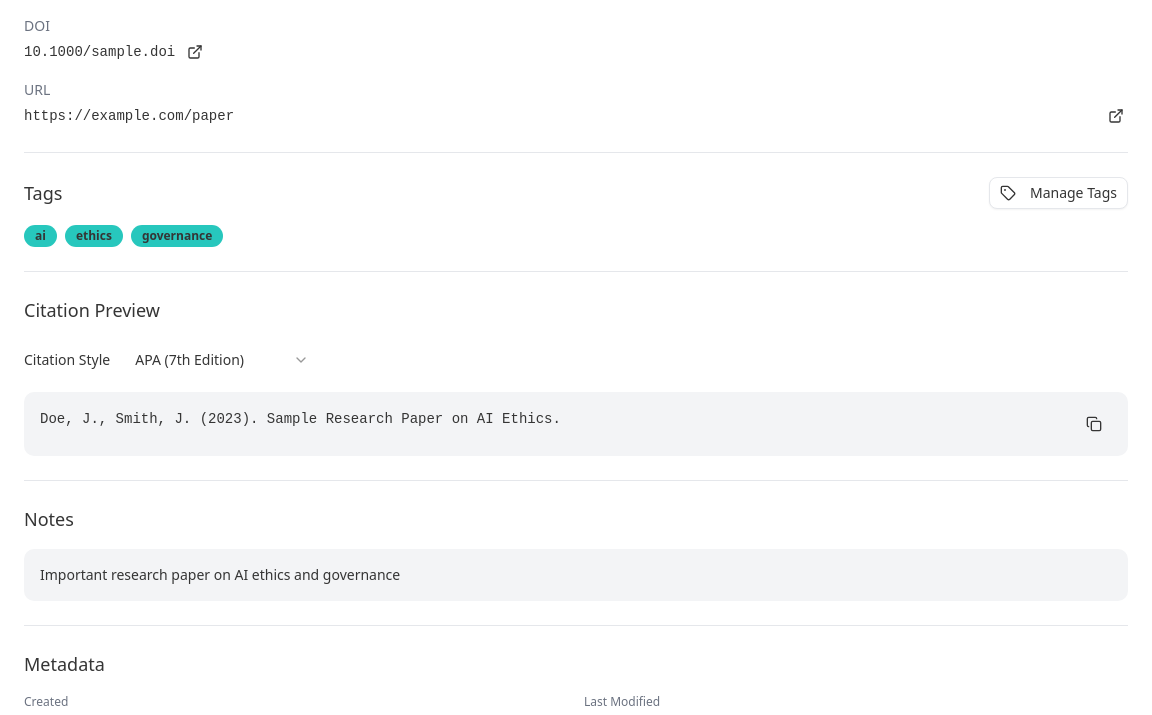
Test case: ReferenceDetail › Citation Generation › should change citation style when selected
(page scrolled)
// Click on citation style dropdown
Click the dropdown.
click(222, 360)  # box [122,340,322,380]
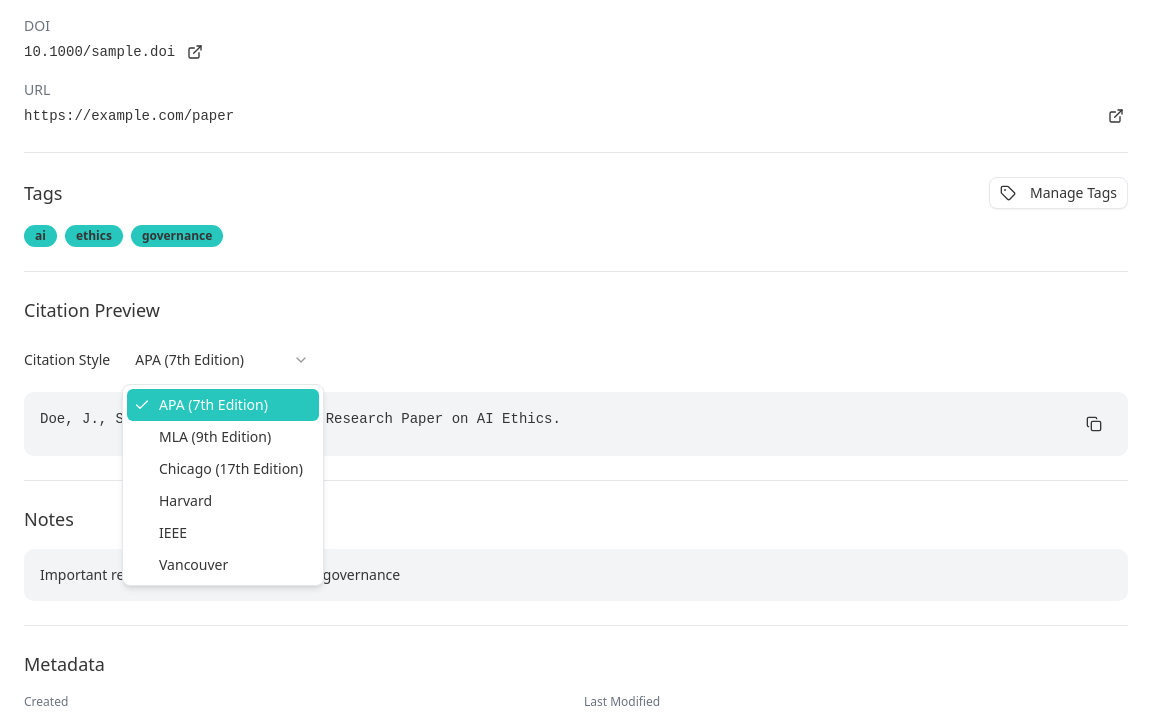
// Select MLA style
Click the option "MLA (9th Edition)".
click(215, 436)  # box [159,427,271,446]
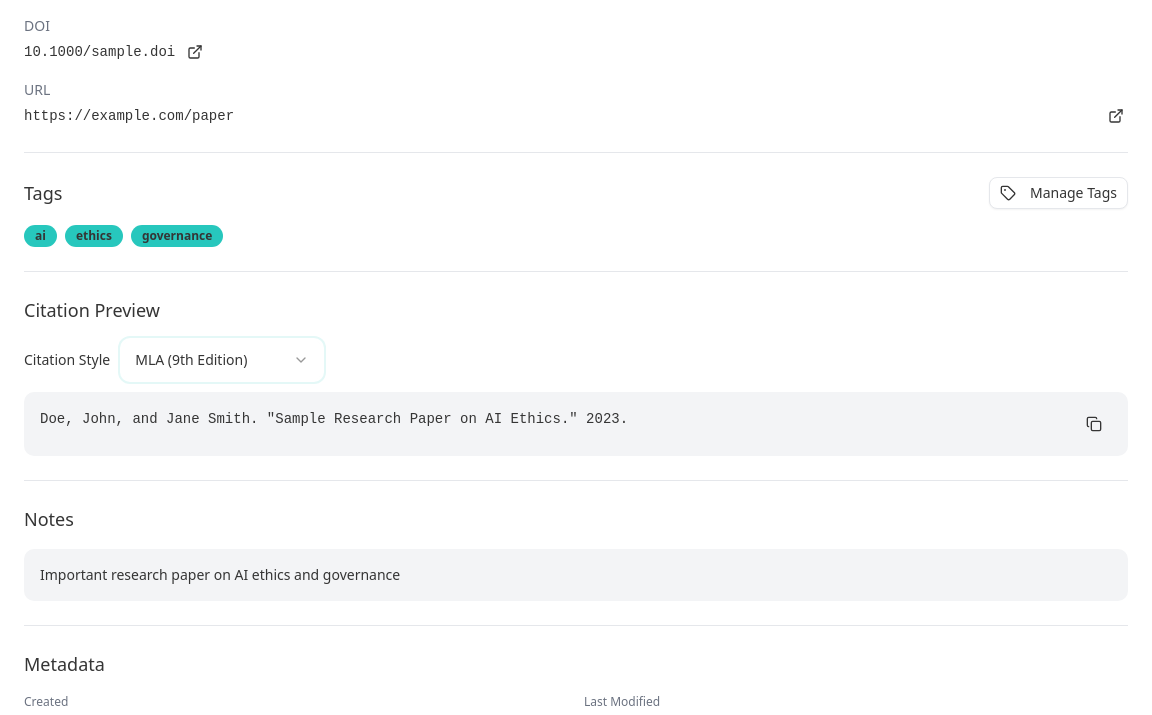
Result: the text "Doe, John, and Jane Smith. \"Sample Research Paper on AI Ethics.\" 2023." is shown at [40,411,628,427]
